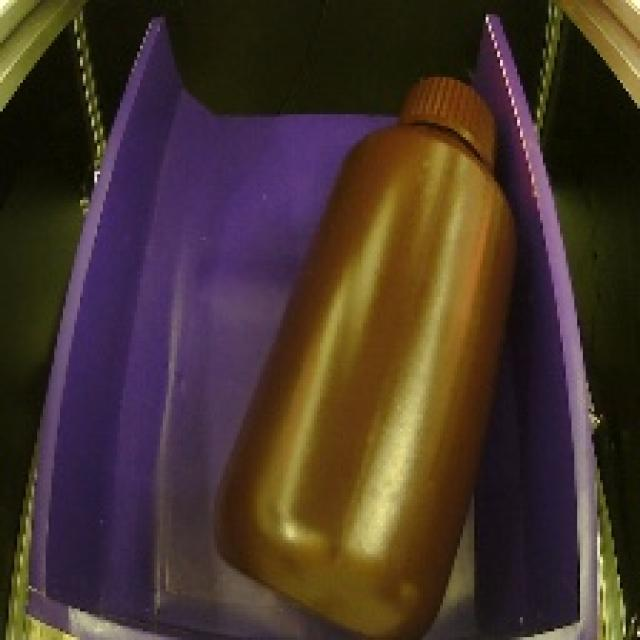plastic: (208, 53, 533, 640)
